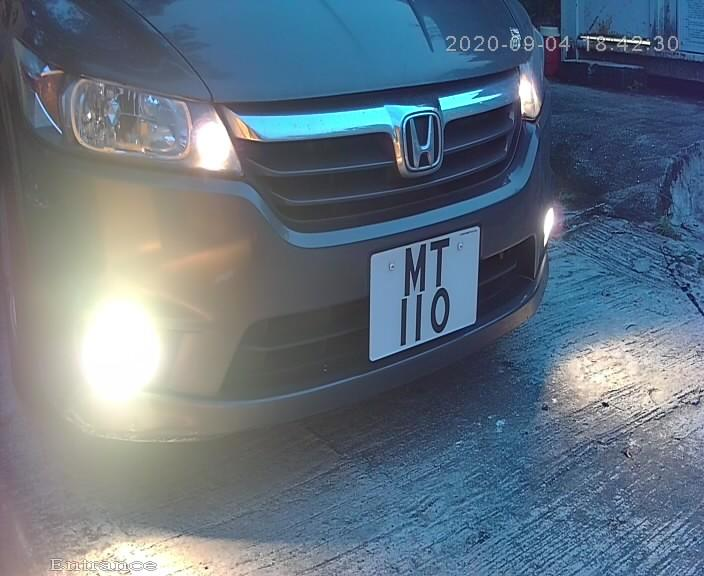License Plate: (359, 206, 485, 371)
